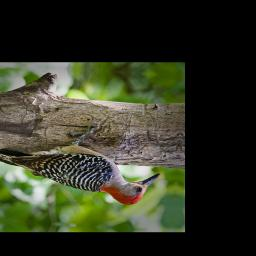Woodpecker: (0, 107, 168, 213)
